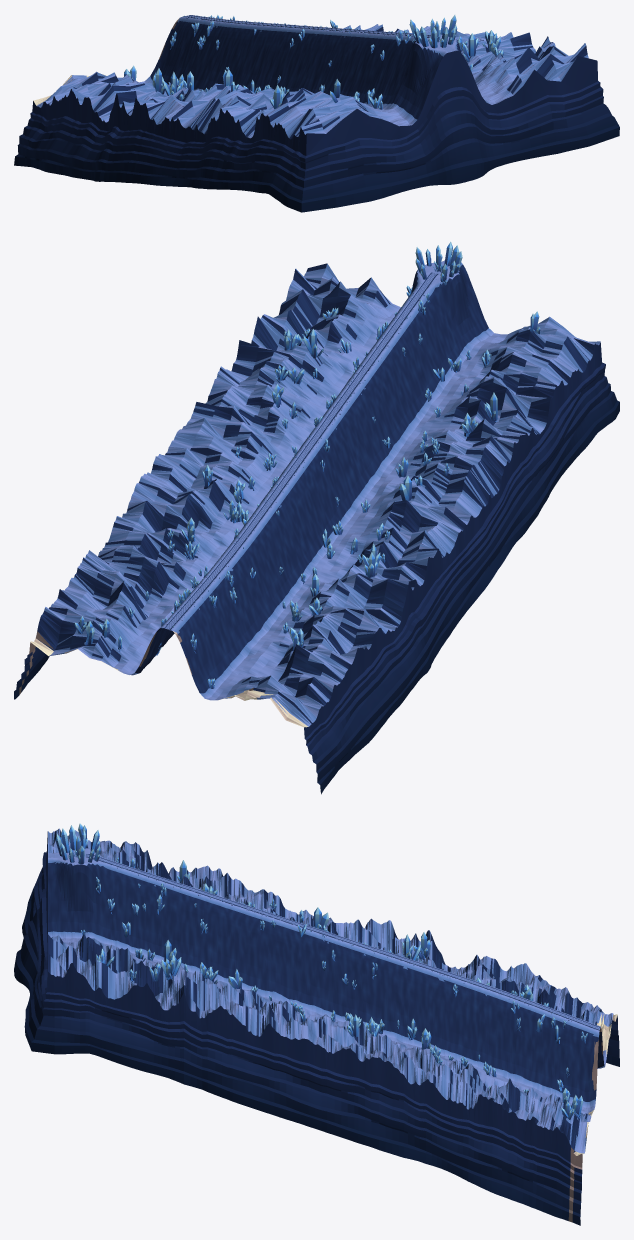
3 renders of one model, top to bottom at view 1: azimuth 30°, elevation 25°; view 2: azimuth 150°, elevation 25°; view 3: azimuth 270°, elevation 25°, orthographic.
Parts seen in each view (by area): view 1: S10_Terrain_R_17737, S10_Terrain_L_17737, S10_Terrain_R_15322, S10_Terrain_R_15805, S10_Terrain_R_16288, S10_Terrain_R_17254, S10_Terrain_R_16771, S10_Terrain_R_14840, S10_Terrain_L_17254, S10_Crystals_01, S10_Crystals_03, S10_Crown (+2 smaller); view 2: S10_Terrain_R_14840, S10_Terrain_R_15322, S10_Terrain_R_16771, S10_Terrain_R_17254, S10_Terrain_R_15805, S10_Terrain_R_16288, S10_Terrain_R_17737, S10_Terrain_L_14840, S10_Terrain_L_16288, S10_Terrain_L_16771, S10_Terrain_L_15805, S10_Terrain_L_15322 (+6 smaller); view 3: S10_Terrain_L_17737, S10_Terrain_L_16771, S10_Terrain_L_16288, S10_Terrain_L_14840, S10_Terrain_L_15805, S10_Terrain_L_17254, S10_Terrain_L_15322, S10_Terrain_R_14840, S10_Crystals_01, S10_Crystals_02, S10_Terrain_R_17737, S10_Terrain_R_15322 (+6 smaller).
Part boxes in pixels (<box>): S10_Terrain_R_17737: <box>251,36,466,212</box>; S10_Terrain_L_17737: <box>426,34,619,180</box>; S10_Terrain_R_15322: <box>46,21,250,179</box>; S10_Terrain_R_15805: <box>90,24,289,183</box>; S10_Terrain_R_16288: <box>133,27,328,186</box>; S10_Terrain_R_17254: <box>209,33,406,191</box>; S10_Terrain_R_16771: <box>171,30,367,189</box>; S10_Terrain_R_14840: <box>14,16,213,171</box>; S10_Terrain_L_17254: <box>379,31,555,76</box>; S10_Crystals_01: <box>124,15,288,100</box>; S10_Crystals_03: <box>330,30,503,109</box>; S10_Crown: <box>409,15,457,48</box>; S10_Terrain_R_14840: <box>170,577,371,794</box>; S10_Terrain_R_15322: <box>217,522,419,739</box>; S10_Terrain_R_16771: <box>338,358,538,569</box>; S10_Terrain_R_17254: <box>377,303,575,514</box>; S10_Terrain_R_15805: <box>259,468,456,680</box>; S10_Terrain_R_16288: <box>298,413,497,624</box>; S10_Terrain_R_17737: <box>417,262,619,459</box>; S10_Terrain_L_14840: <box>14,574,209,699</box>; S10_Terrain_L_16288: <box>151,411,330,518</box>; S10_Terrain_L_16771: <box>188,356,370,463</box>; S10_Terrain_L_15805: <box>110,466,290,571</box>; S10_Terrain_L_15322: <box>74,520,251,622</box>; S10_Terrain_L_17737: <box>14,857,128,1066</box>; S10_Terrain_L_16771: <box>207,896,286,1119</box>; S10_Terrain_L_16288: <box>286,922,364,1144</box>; S10_Terrain_L_14840: <box>507,1002,599,1225</box>; S10_Terrain_L_15805: <box>365,948,443,1168</box>; S10_Terrain_L_17254: <box>129,870,207,1091</box>; S10_Terrain_L_15322: <box>441,974,521,1197</box>; S10_Terrain_R_14840: <box>522,975,619,1068</box>; S10_Crystals_01: <box>387,932,596,1119</box>; S10_Crystals_02: <box>179,860,384,1037</box>; S10_Terrain_R_17737: <box>14,828,128,970</box>; S10_Terrain_R_15322: <box>443,955,534,997</box>.
Size of the model in its own units: 2251 by 1967 by 3498.
1 material, 1 textured.
